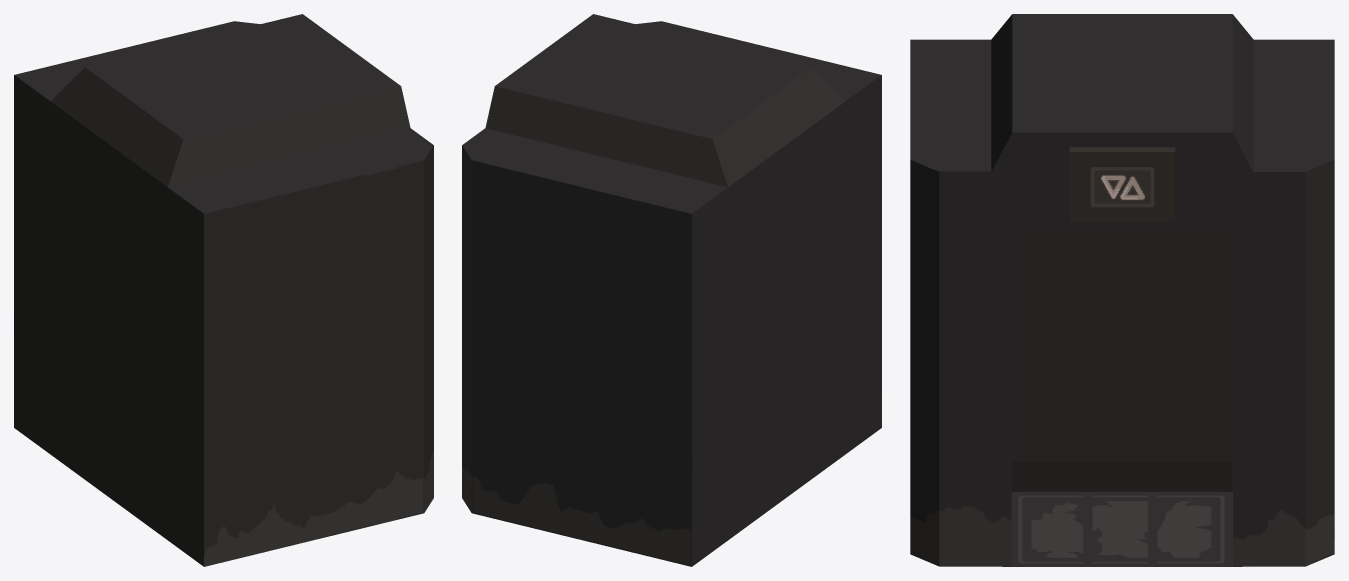
Rendered from elevatorMain.obj.
3 views of the same model, side by side, from view 1: azimuth 30°, elevation 25°; view 2: azimuth 150°, elevation 25°; view 3: azimuth 270°, elevation 25° (orthographic). The views are drawn at different scales.
Parts seen in each view (by area): view 1: Cube; view 2: Cube; view 3: Cube, Cube.006.
Part boxes in pixels (bbox=[...]): Cube: bbox=[14, 14, 433, 566]; Cube: bbox=[462, 14, 881, 566]; Cube: bbox=[910, 14, 1334, 566]; Cube.006: bbox=[1069, 147, 1175, 222].
Size of the model in its own units: 3.48 by 5.13 by 4.55.
2 materials, 2 textured.
